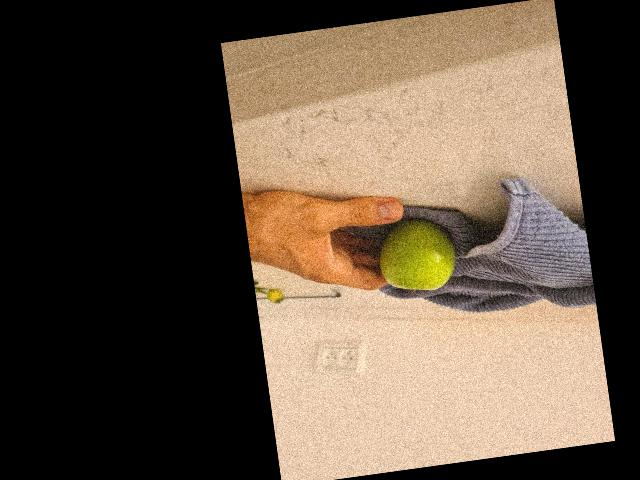apple: (379, 215, 456, 297)
